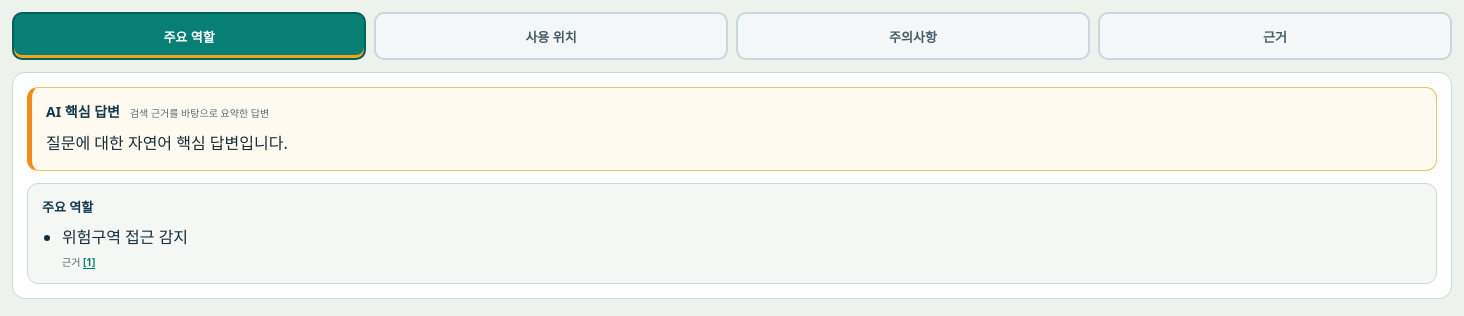
AnswerTabs › renders component information as four purpose-specific tabs
Click the tab "사용 위치" at (551, 36), box [374, 12, 728, 60]
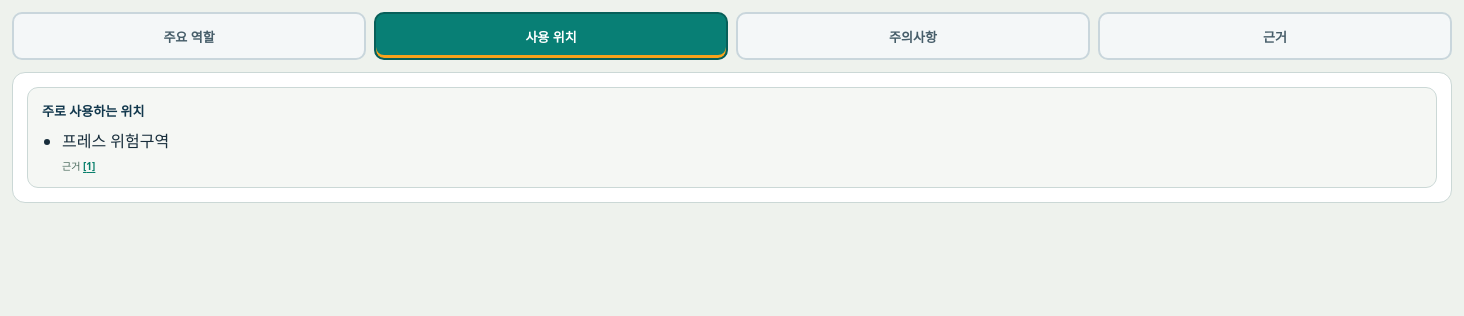
Now the text "프레스 위험구역" is shown, box [62, 130, 169, 152]
Click the tab "주의사항" at (913, 36), box [736, 12, 1090, 60]
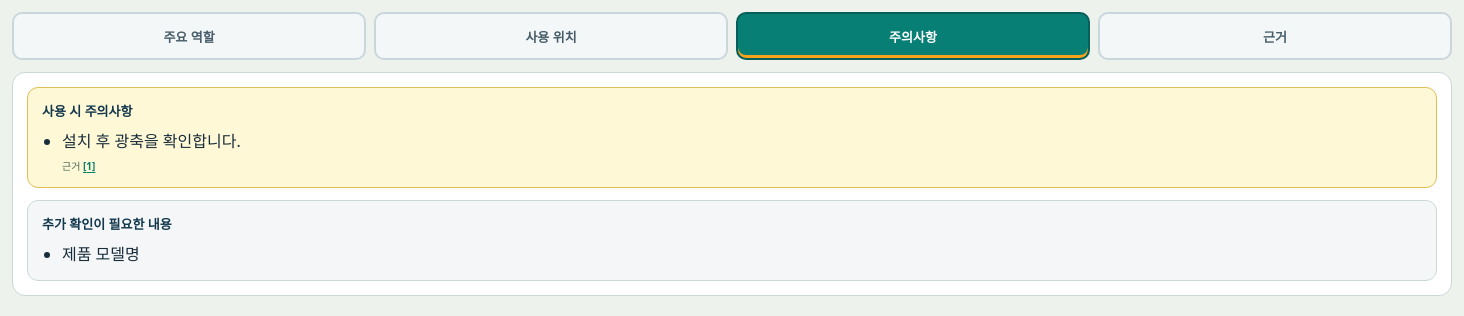
Now the text "설치 후 광축을 확인합니다." is shown, box [62, 130, 241, 152]
